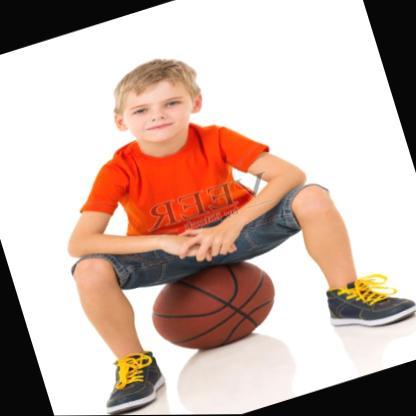basketball: (142, 251, 284, 364)
